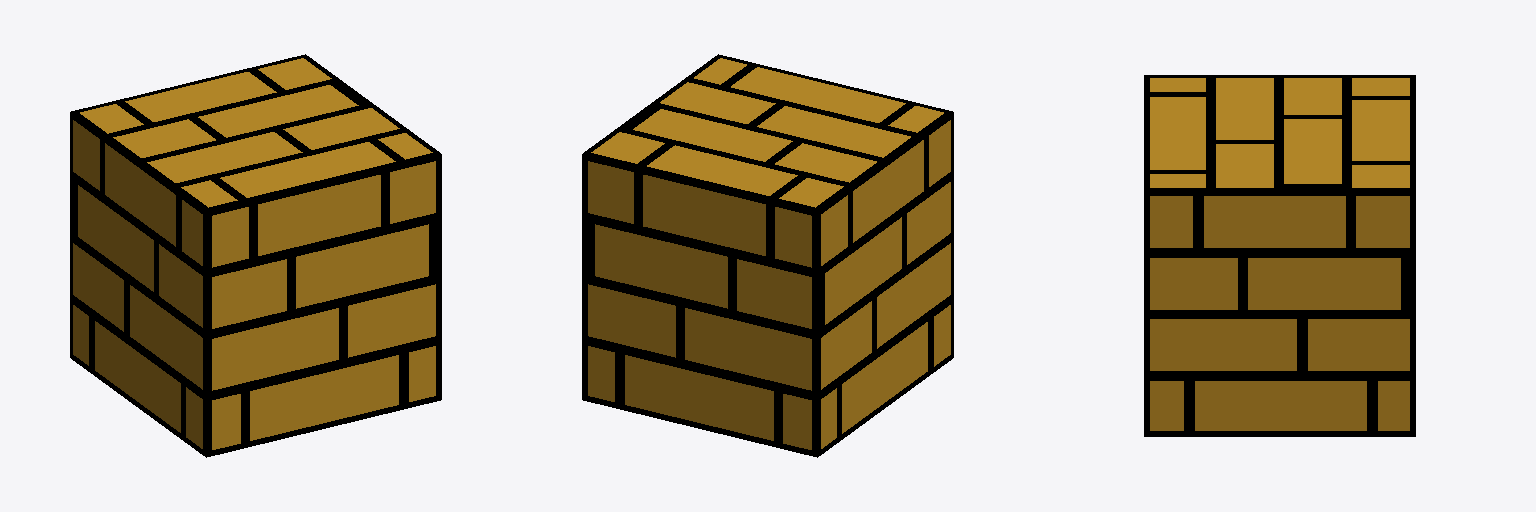
3 views of the same model, side by side, from view 1: azimuth 30°, elevation 25°; view 2: azimuth 150°, elevation 25°; view 3: azimuth 270°, elevation 25° (orthographic).
Parts seen in each view (by area): view 1: Cube; view 2: Cube; view 3: Cube.
Boxes of the visible parts, x1=… form: Cube: x1=70, y1=54, x2=441, y2=457; Cube: x1=582, y1=54, x2=953, y2=457; Cube: x1=1144, y1=75, x2=1415, y2=436.
Size of the model in its own units: 2 by 2 by 2.
1 materials, 1 textured.